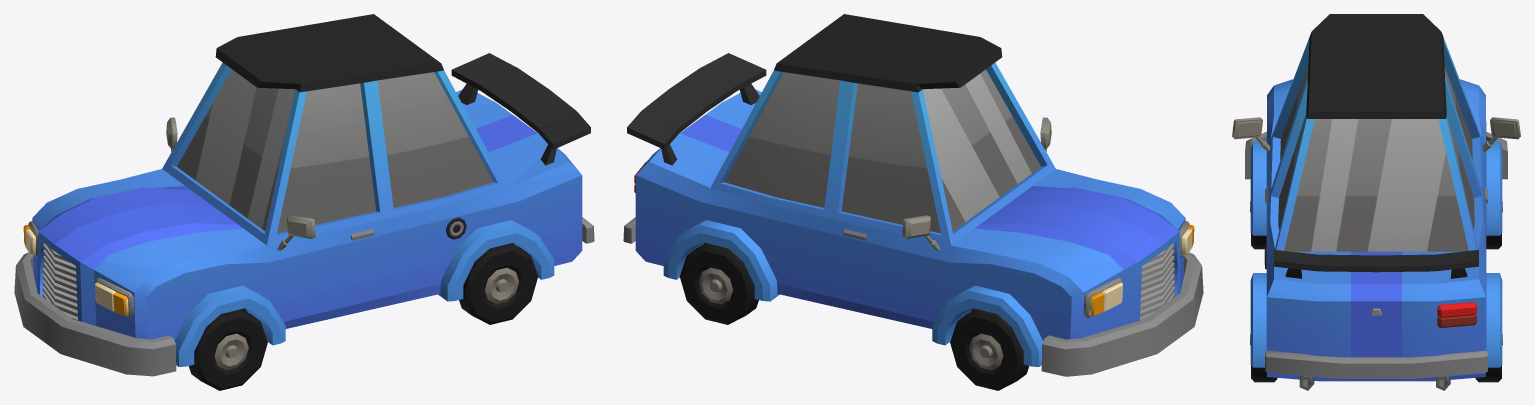
Rendered from Car_2_K.fbx.
3 views of the same model, side by side, from view 1: azimuth 30°, elevation 25°; view 2: azimuth 150°, elevation 25°; view 3: azimuth 270°, elevation 25° (orthographic).
Visible parts, largest first — view 1: Car_2_K, RL, FL; view 2: Car_2_K, RR, FR; view 3: Car_2_K, RL, RR.
Part boxes in pixels (x1,y1,x2,y2): Car_2_K: (14,14,594,376); RL: (459,243,538,324); FL: (188,309,267,390); Car_2_K: (623,14,1203,376); RR: (679,243,758,324); FR: (950,309,1029,390); Car_2_K: (1232,14,1520,390); RL: (1250,334,1277,382); RR: (1475,334,1502,382).
Size of the model in its own units: 364 by 180 by 178.
